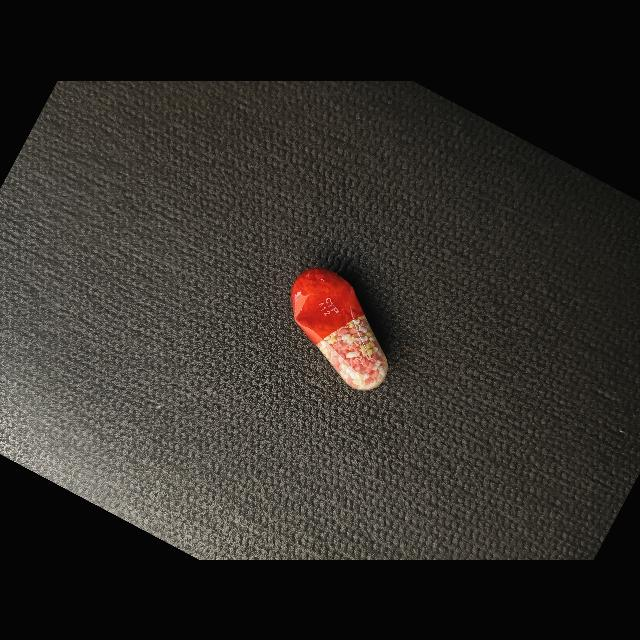Defective Capsule: (291, 267, 388, 390)
